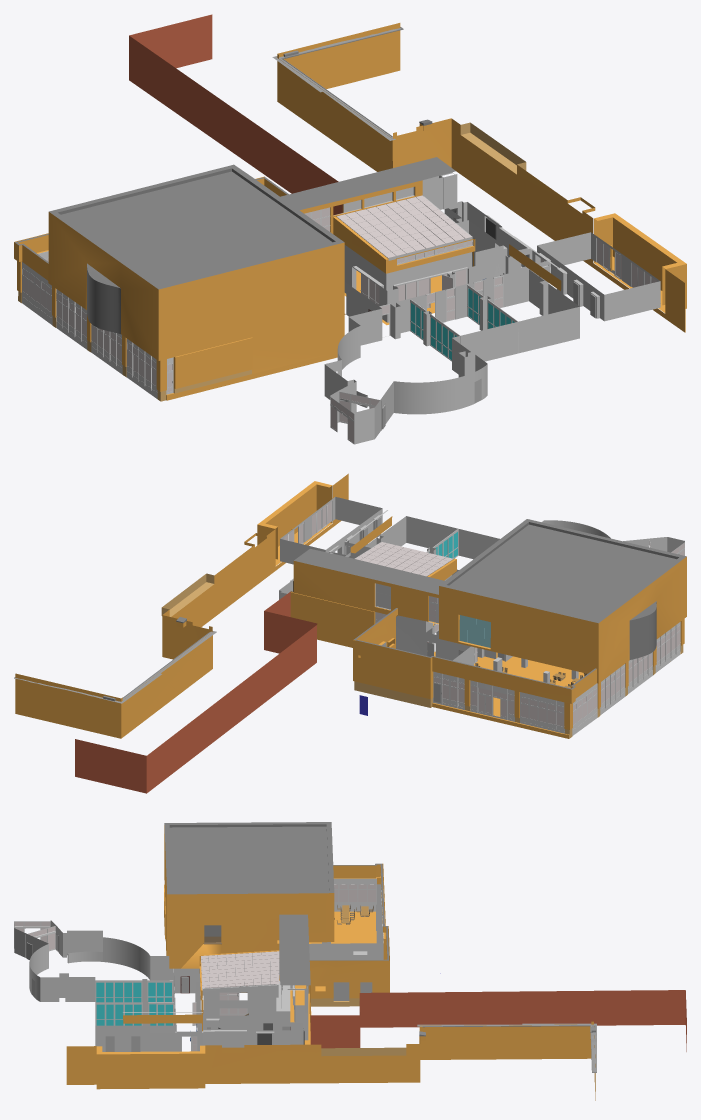
The picture shows the model from 3 angles, top to bottom: view 1: azimuth 30°, elevation 25°; view 2: azimuth 150°, elevation 25°; view 3: azimuth 270°, elevation 25°; orthographic projection. The views are drawn at different scales.
Parts seen in each view (by area): view 1: strop025.2051, strop025.160, strop025.181, strop025.1615, strop025.212, strop025.1471, strop025.2209, strop025.2145, strop025.2047, strop025.179, strop025.009, strop025.1588 (+14 smaller); view 2: strop025.2051, strop025.181, strop025.160, strop025.003, strop025.182, strop025.212, strop025.179, strop025.2047, strop025.2209, strop025.1471, strop025.2145, strop025.326 (+15 smaller); view 3: strop025.2051, strop025.181, strop025.160, strop025.1615, strop025.003, strop025.212, strop025.2047, strop025.1471, strop025.179, strop025.2209, strop025.052, strop025.361 (+10 smaller).
Part boxes in pixels (x1,y1,x2,y2): strop025.2051: (129,14,685,332); strop025.160: (48,212,344,373); strop025.181: (49,164,344,289); strop025.1615: (324,299,487,444); strop025.212: (338,196,550,322); strop025.1471: (337,195,471,258); strop025.2209: (537,232,660,321); strop025.2145: (455,269,579,353); strop025.2047: (594,213,686,312); strop025.179: (280,157,455,210); strop025.009: (173,337,252,393); strop025.1588: (390,285,518,361); strop025.2051: (15,473,348,793); strop025.181: (439,519,686,623); strop025.160: (439,556,686,683); strop025.003: (290,592,680,738); strop025.182: (291,561,438,624); strop025.212: (279,542,467,660); strop025.179: (294,549,444,594); strop025.2047: (257,481,332,565); strop025.2209: (280,496,382,564); strop025.1471: (355,542,453,576); strop025.2145: (365,516,457,551); strop025.326: (470,680,514,721); strop025.2051: (66,990,686,1100); strop025.181: (164,822,334,894); strop025.160: (164,825,334,968); strop025.1615: (14,920,173,1001); strop025.003: (201,863,389,1044); strop025.212: (174,953,308,1047); strop025.2047: (96,1045,205,1089); strop025.1471: (201,951,279,987); strop025.179: (279,914,310,985); strop025.2209: (98,1032,203,1051); strop025.052: (334,878,376,911); strop025.361: (309,943,383,959).
Bounding box in the file's own units: 5437 × 1110 × 7652.
